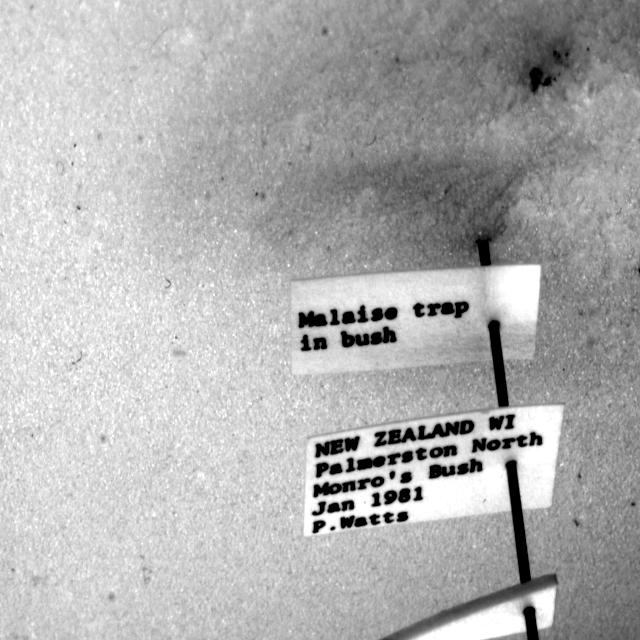typed_label: (304, 405, 564, 536), (291, 264, 541, 375)
